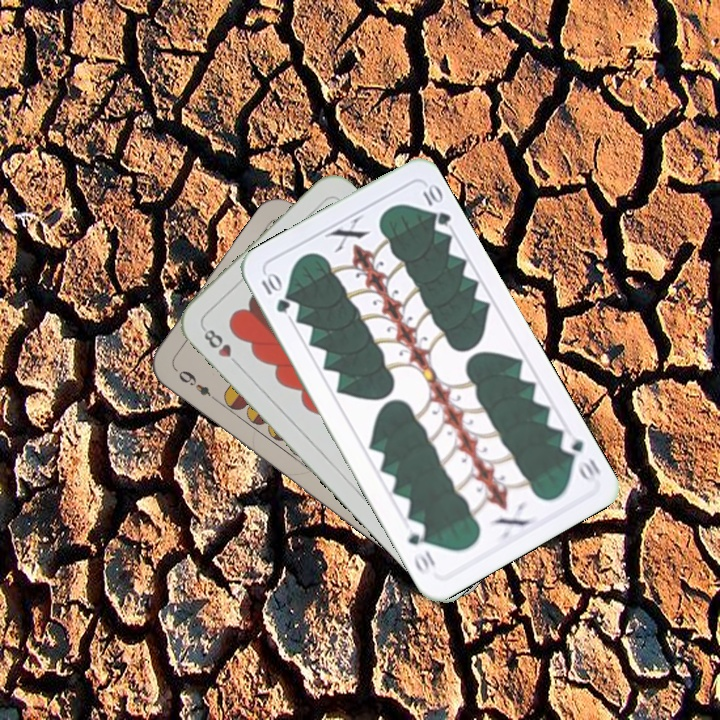E9: (174, 366, 221, 405)
G10: (556, 428, 604, 486), (257, 269, 293, 316)
H8: (198, 323, 244, 370)
